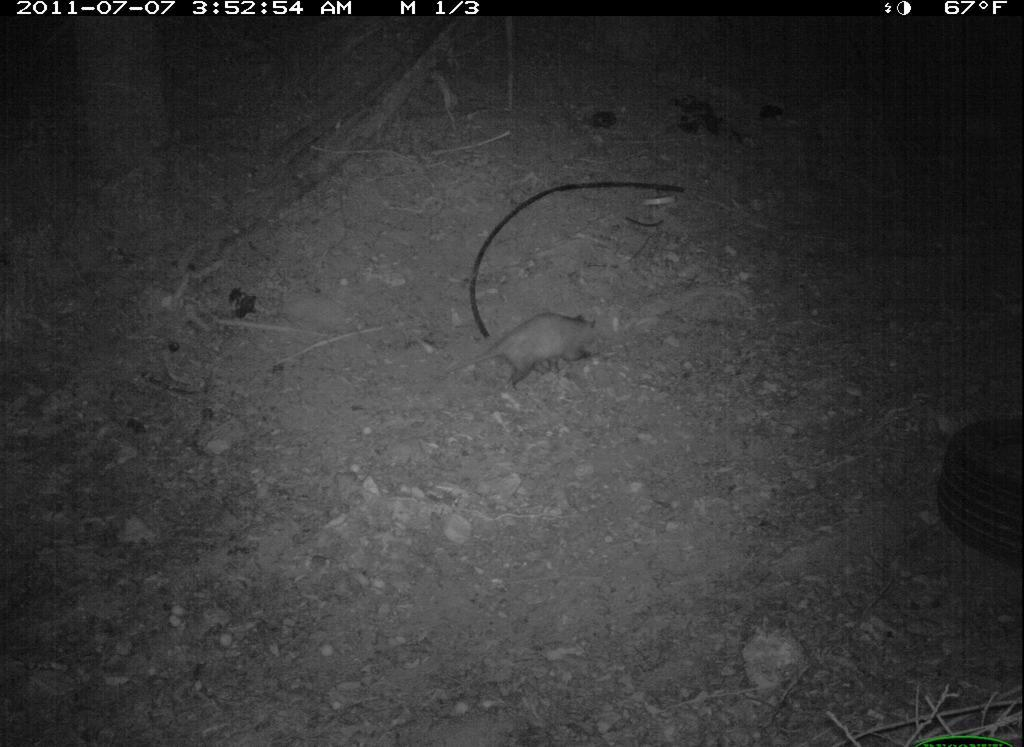opossum: (441, 304, 603, 401)
